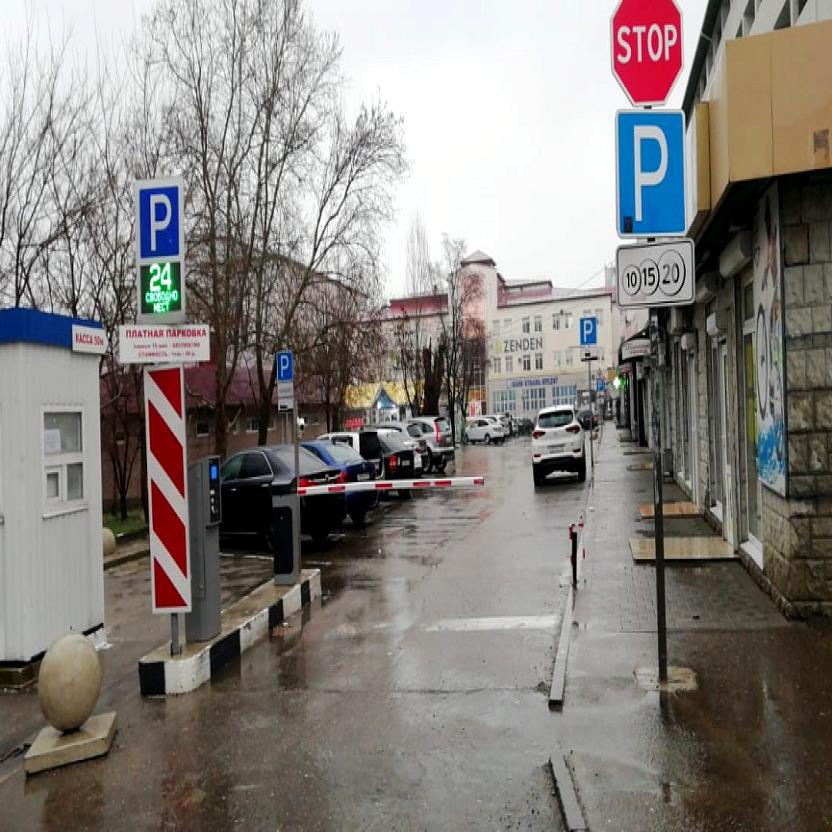Pole: (650, 307, 667, 688)
Sign: (611, 0, 685, 104)
